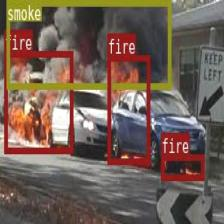fire: (3, 50, 73, 152), (107, 54, 149, 164), (161, 154, 204, 180)
smoke: (6, 0, 170, 88)
